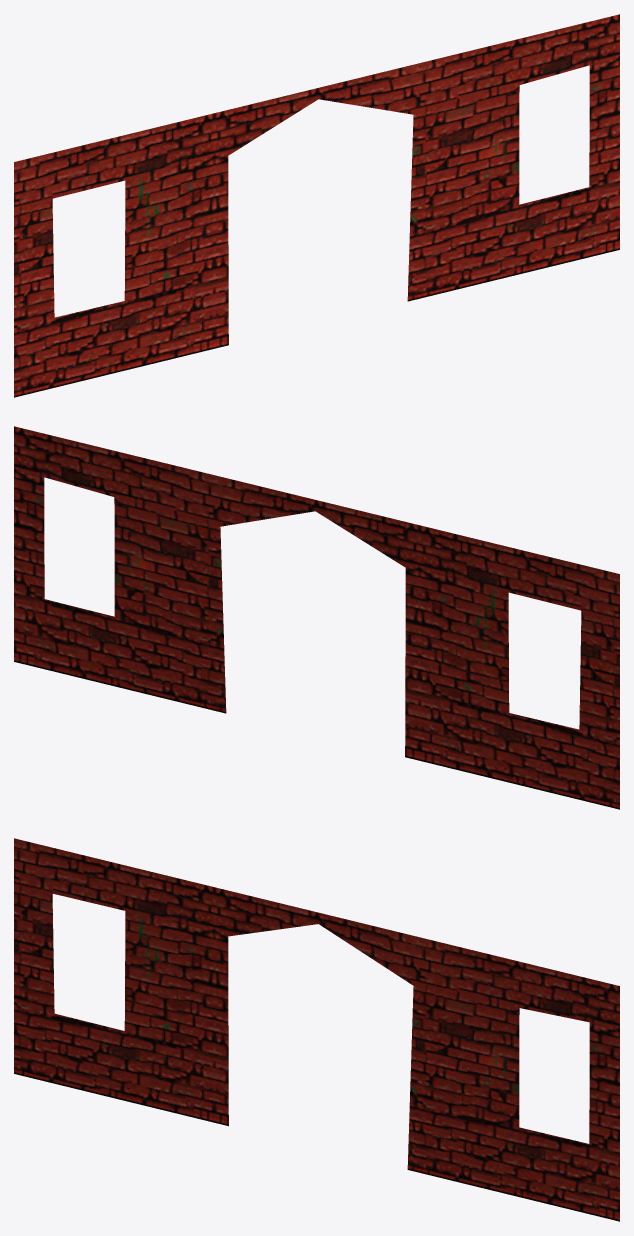
File: W_AI1_fOf [Ziegel]_1823.glb
3 renders of one model, top to bottom at view 1: azimuth 30°, elevation 25°; view 2: azimuth 150°, elevation 25°; view 3: azimuth 330°, elevation 25°, orthographic.
Visible parts, largest first — view 1: polySurfaceShape908; view 2: polySurfaceShape908; view 3: polySurfaceShape908.
Boxes of the visible parts, left/top/right/bottom form: polySurfaceShape908: left=14, top=14, right=619, bottom=397; polySurfaceShape908: left=14, top=426, right=619, bottom=809; polySurfaceShape908: left=14, top=838, right=619, bottom=1221.
Bounding box in the file's own units: 0.9385 × 0.3486 × 1.52e-08.
Materials: 1 (1 with a texture image).
